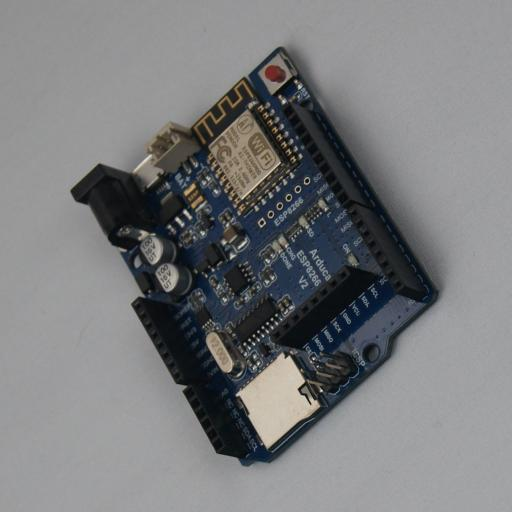Arduino Uno Camera Shield: (70, 46, 442, 466)
